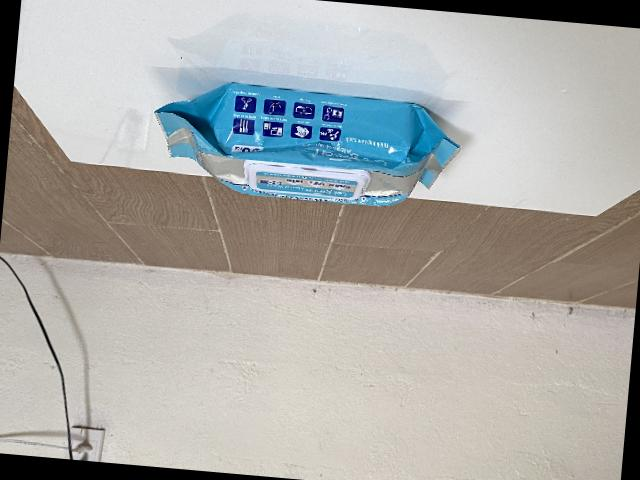Let-green_alcohol_wipes: (153, 80, 461, 205)
